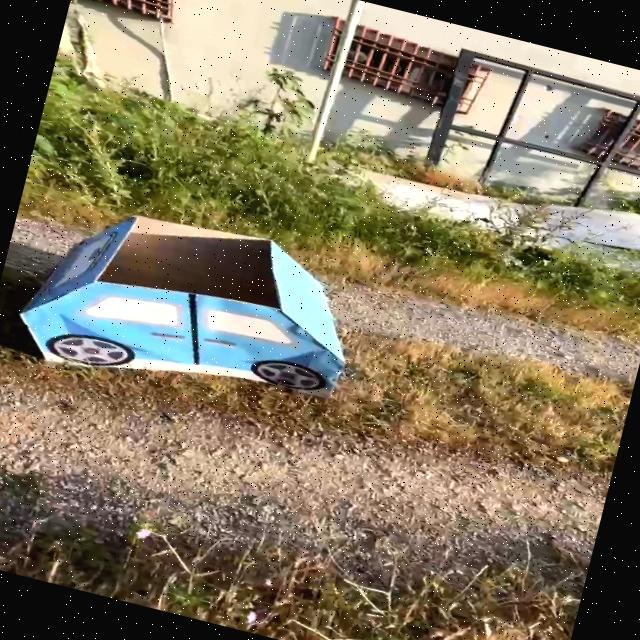blue_car: (0, 150, 407, 439)
